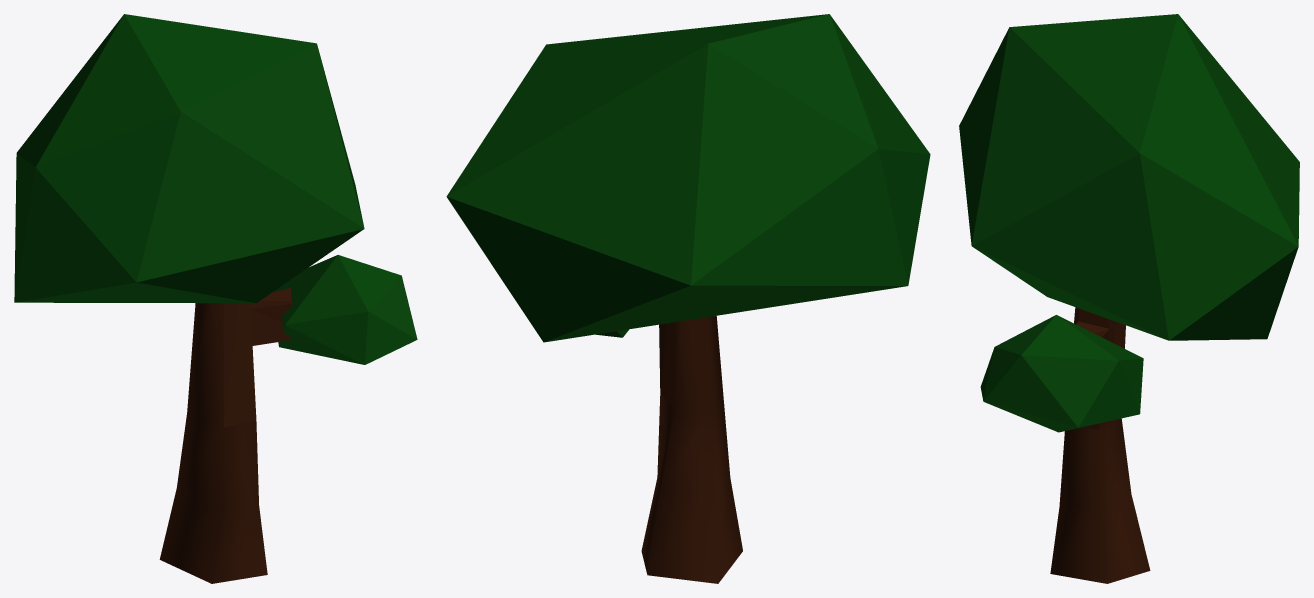
The model's file is Tree 6.FBX.
The picture shows the model from 3 angles, left to right: view 1: azimuth 30°, elevation 25°; view 2: azimuth 150°, elevation 25°; view 3: azimuth 270°, elevation 25°; orthographic projection. The views are drawn at different scales.
Visible parts, largest first — view 1: Tree round12, Treetrunk12, Tree round013; view 2: Tree round12, Treetrunk12; view 3: Tree round12, Tree round013, Treetrunk12.
Boxes of the visible parts, x1=… form: Tree round12: x1=14, y1=14, x2=364, y2=303; Treetrunk12: x1=159, y1=288, x2=293, y2=583; Tree round013: x1=273, y1=255, x2=417, y2=364; Tree round12: x1=446, y1=14, x2=930, y2=342; Treetrunk12: x1=641, y1=316, x2=742, y2=583; Tree round12: x1=959, y1=14, x2=1299, y2=340; Tree round013: x1=980, y1=315, x2=1143, y2=432; Treetrunk12: x1=1050, y1=307, x2=1150, y2=583.
Bounding box in the file's own units: 34.78 × 47.01 × 27.8.
